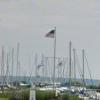Boat: (53, 77, 97, 100)
